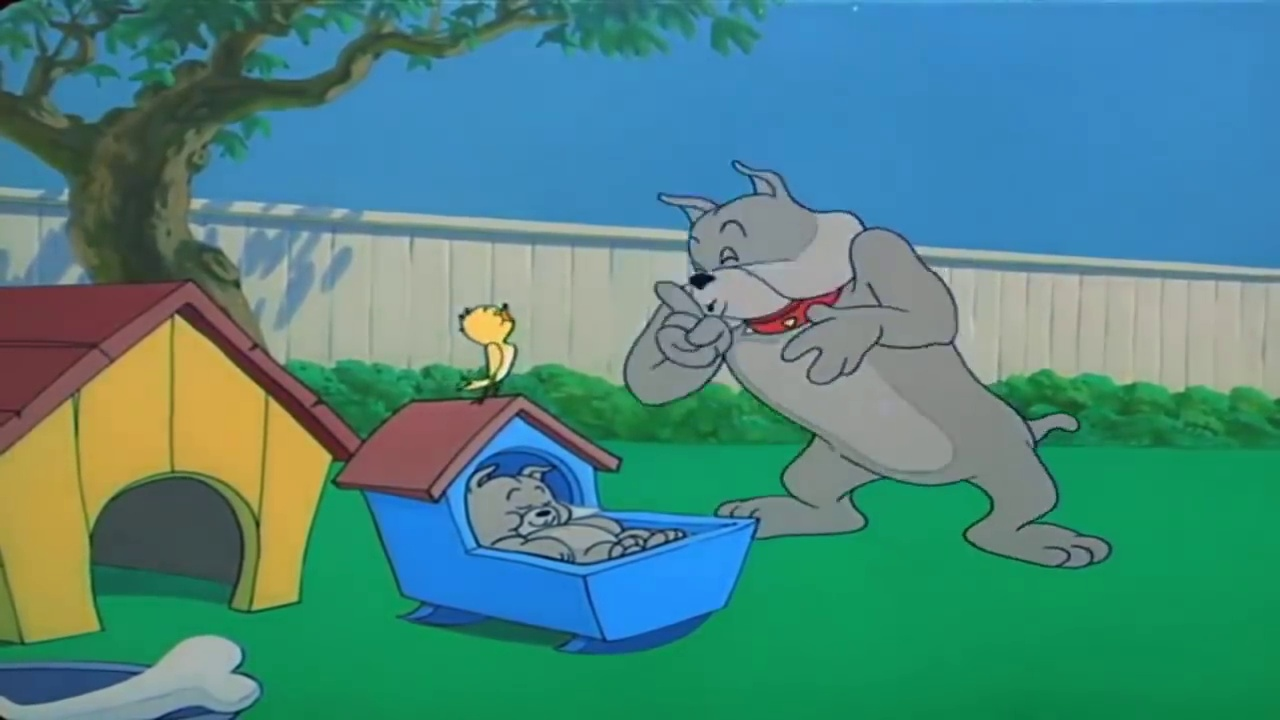spike: (656, 156, 872, 343)
